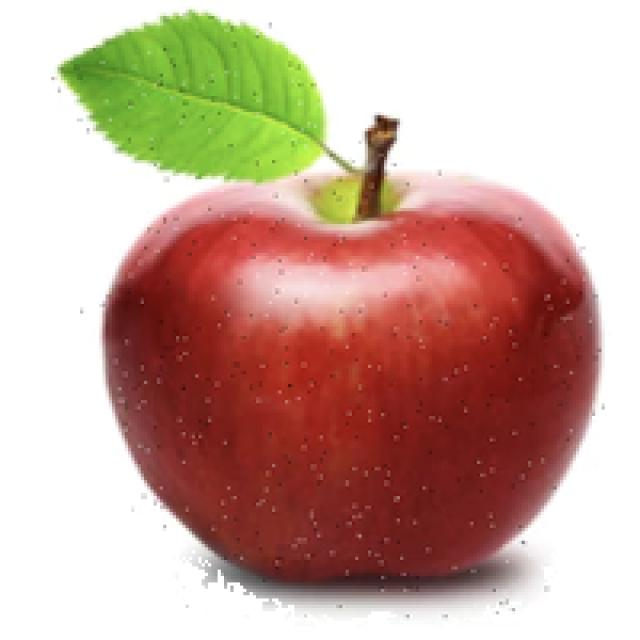apple: (48, 3, 605, 627)
